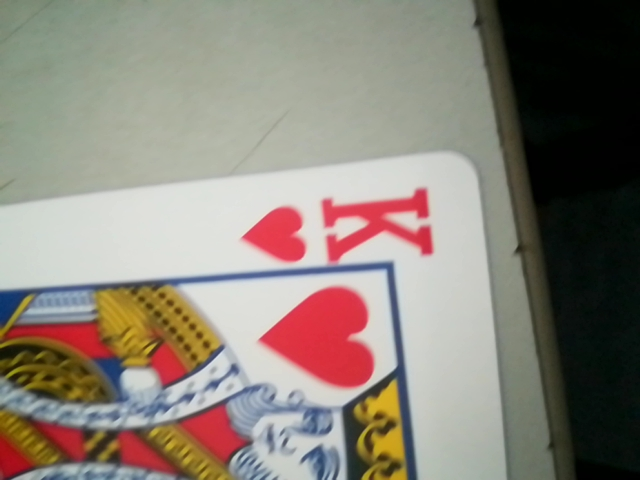hx k: (242, 184, 443, 272)
